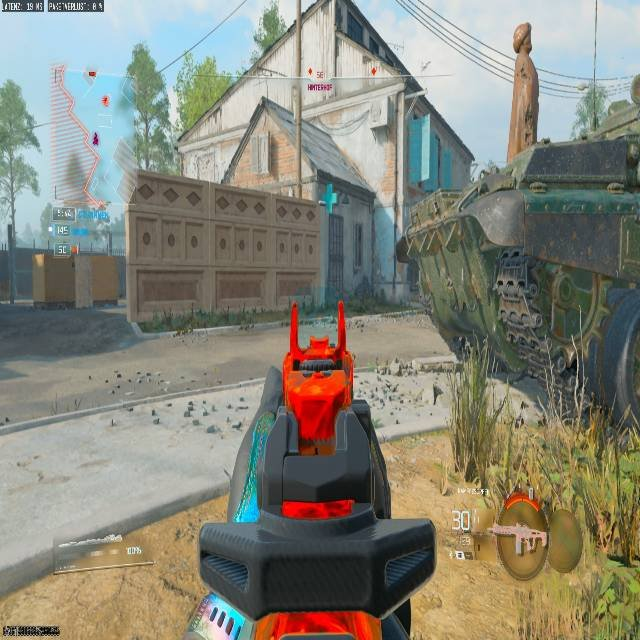player: (92, 221, 107, 248)
